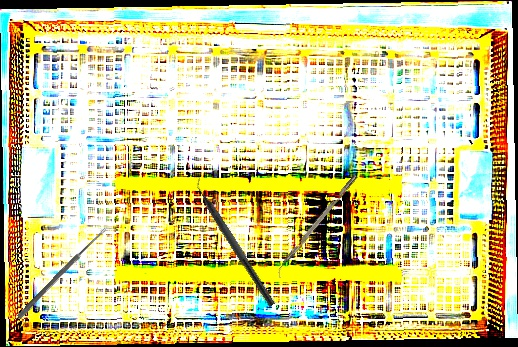Chopper: (186, 170, 285, 308), (272, 174, 363, 279)
Surgical Spoon: (16, 226, 108, 320)
